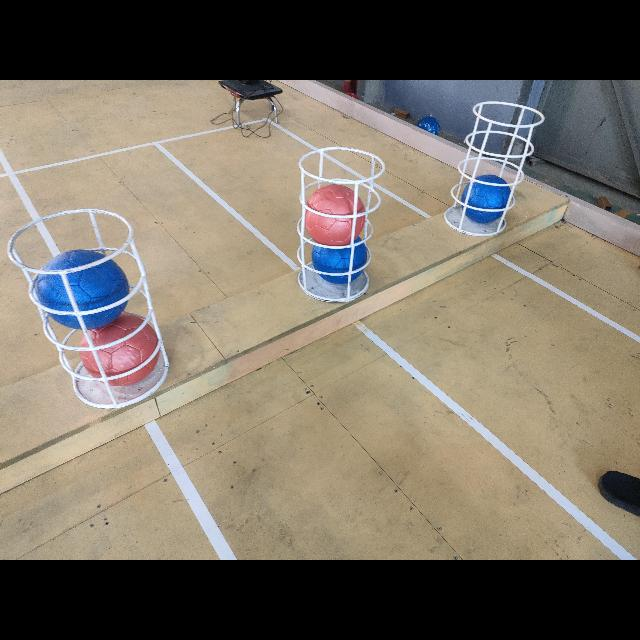B: (35, 253, 128, 329), (312, 240, 368, 284), (462, 174, 508, 224)
R: (81, 324, 160, 384), (304, 183, 366, 241)
